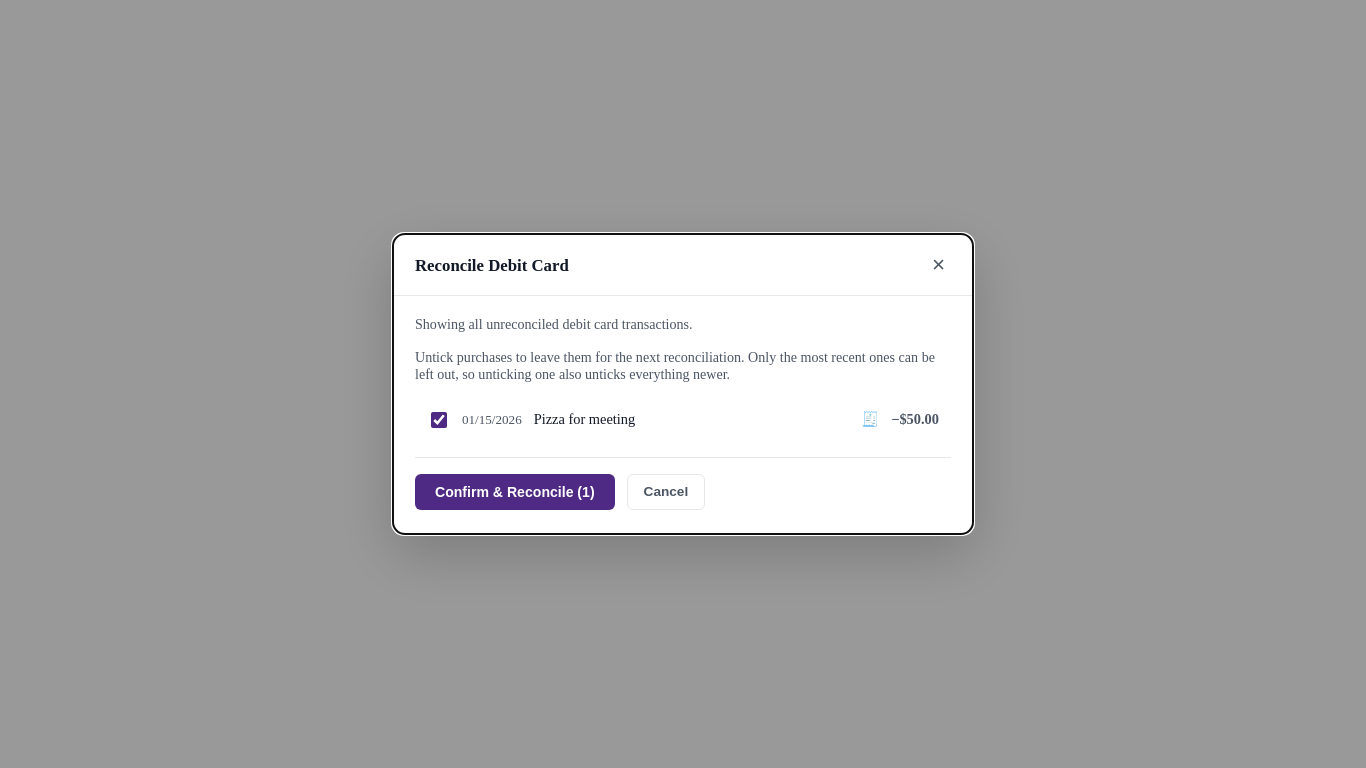
it: ReconciliationModal › no reload choice is made by default, and the form waits for one
Click the button "Confirm & Reconcile (1)" at (515, 492), box [415, 474, 615, 510]
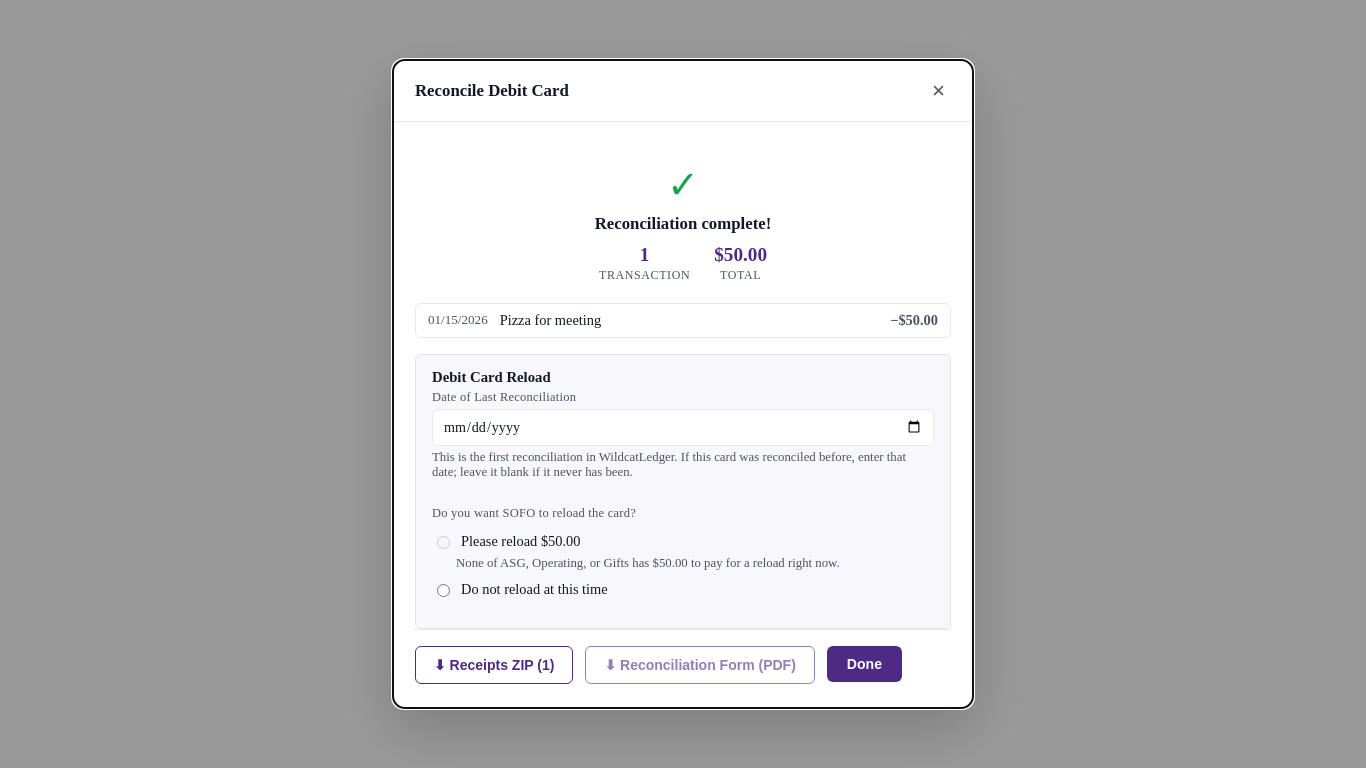
Expected: the text "Reconciliation complete!" is shown, [595, 214, 771, 234]
Expected: the radio button labelled "Please reload $50.00" is not checked, [437, 536, 450, 549]
Expected: the radio button labelled "Do not reload at this time" is not checked, [437, 584, 450, 597]
